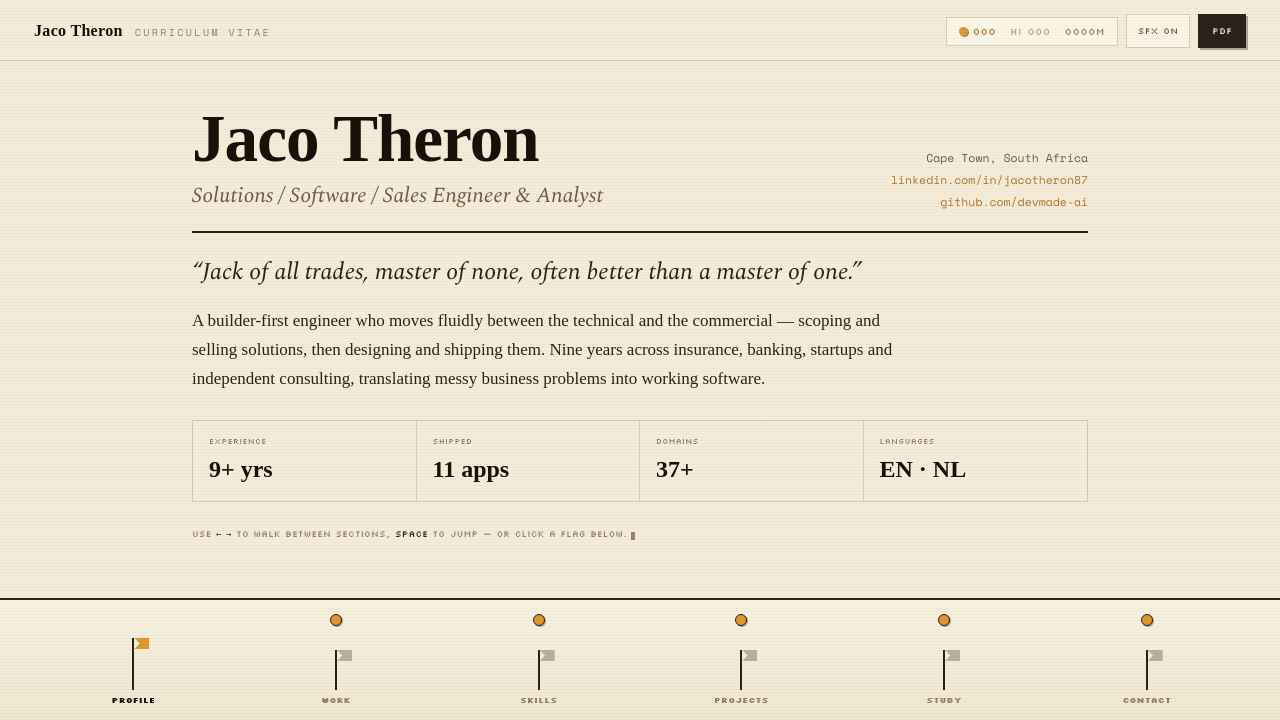
it: LivingCv › navigates to a section when its flag is clicked
The image size is (1280, 720).
Click the button "Work". click: coordinates (336, 670)
box: [235,650,437,690]
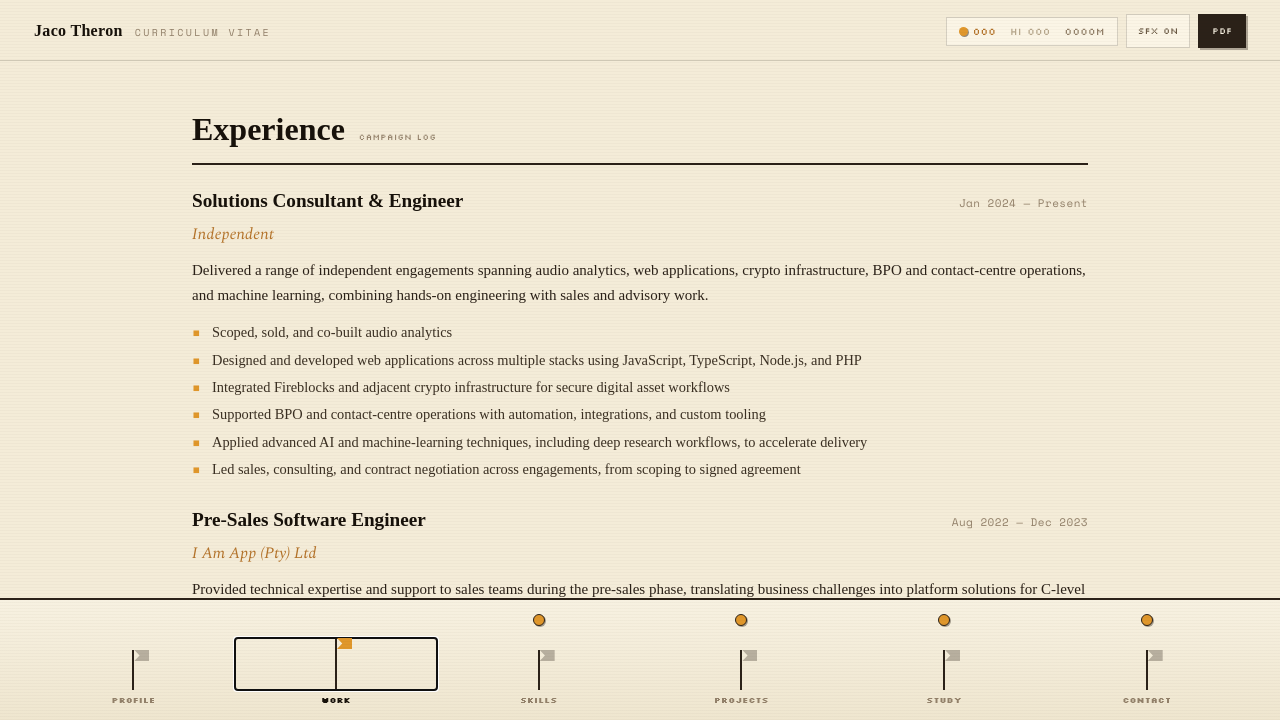
Now the text "Campaign Log" is shown, box [359,131,436,144]
Click the button "Contact". click: coordinates (1147, 670)
box: [1045,650,1248,690]
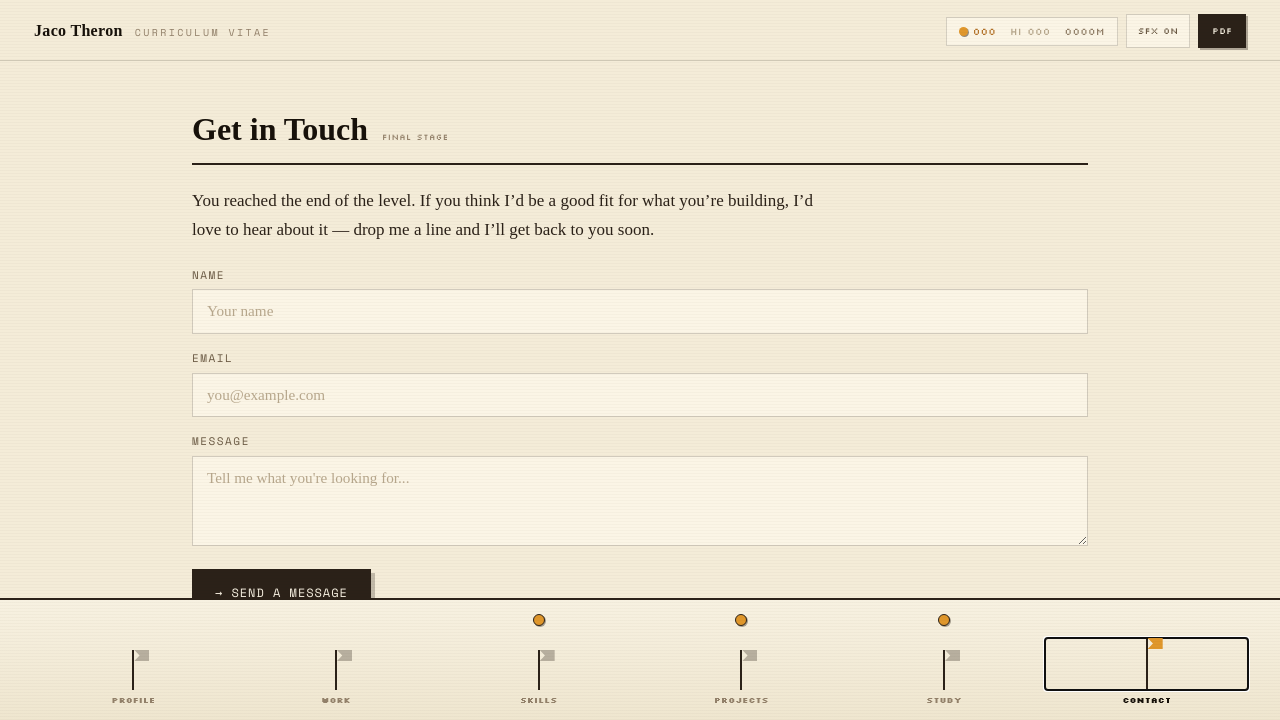
Now the text "Final Stage" is shown, box [382,131,448,144]
